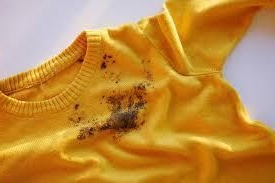earth: (105, 90, 146, 131), (102, 53, 114, 70), (77, 129, 95, 140), (73, 104, 81, 124)
